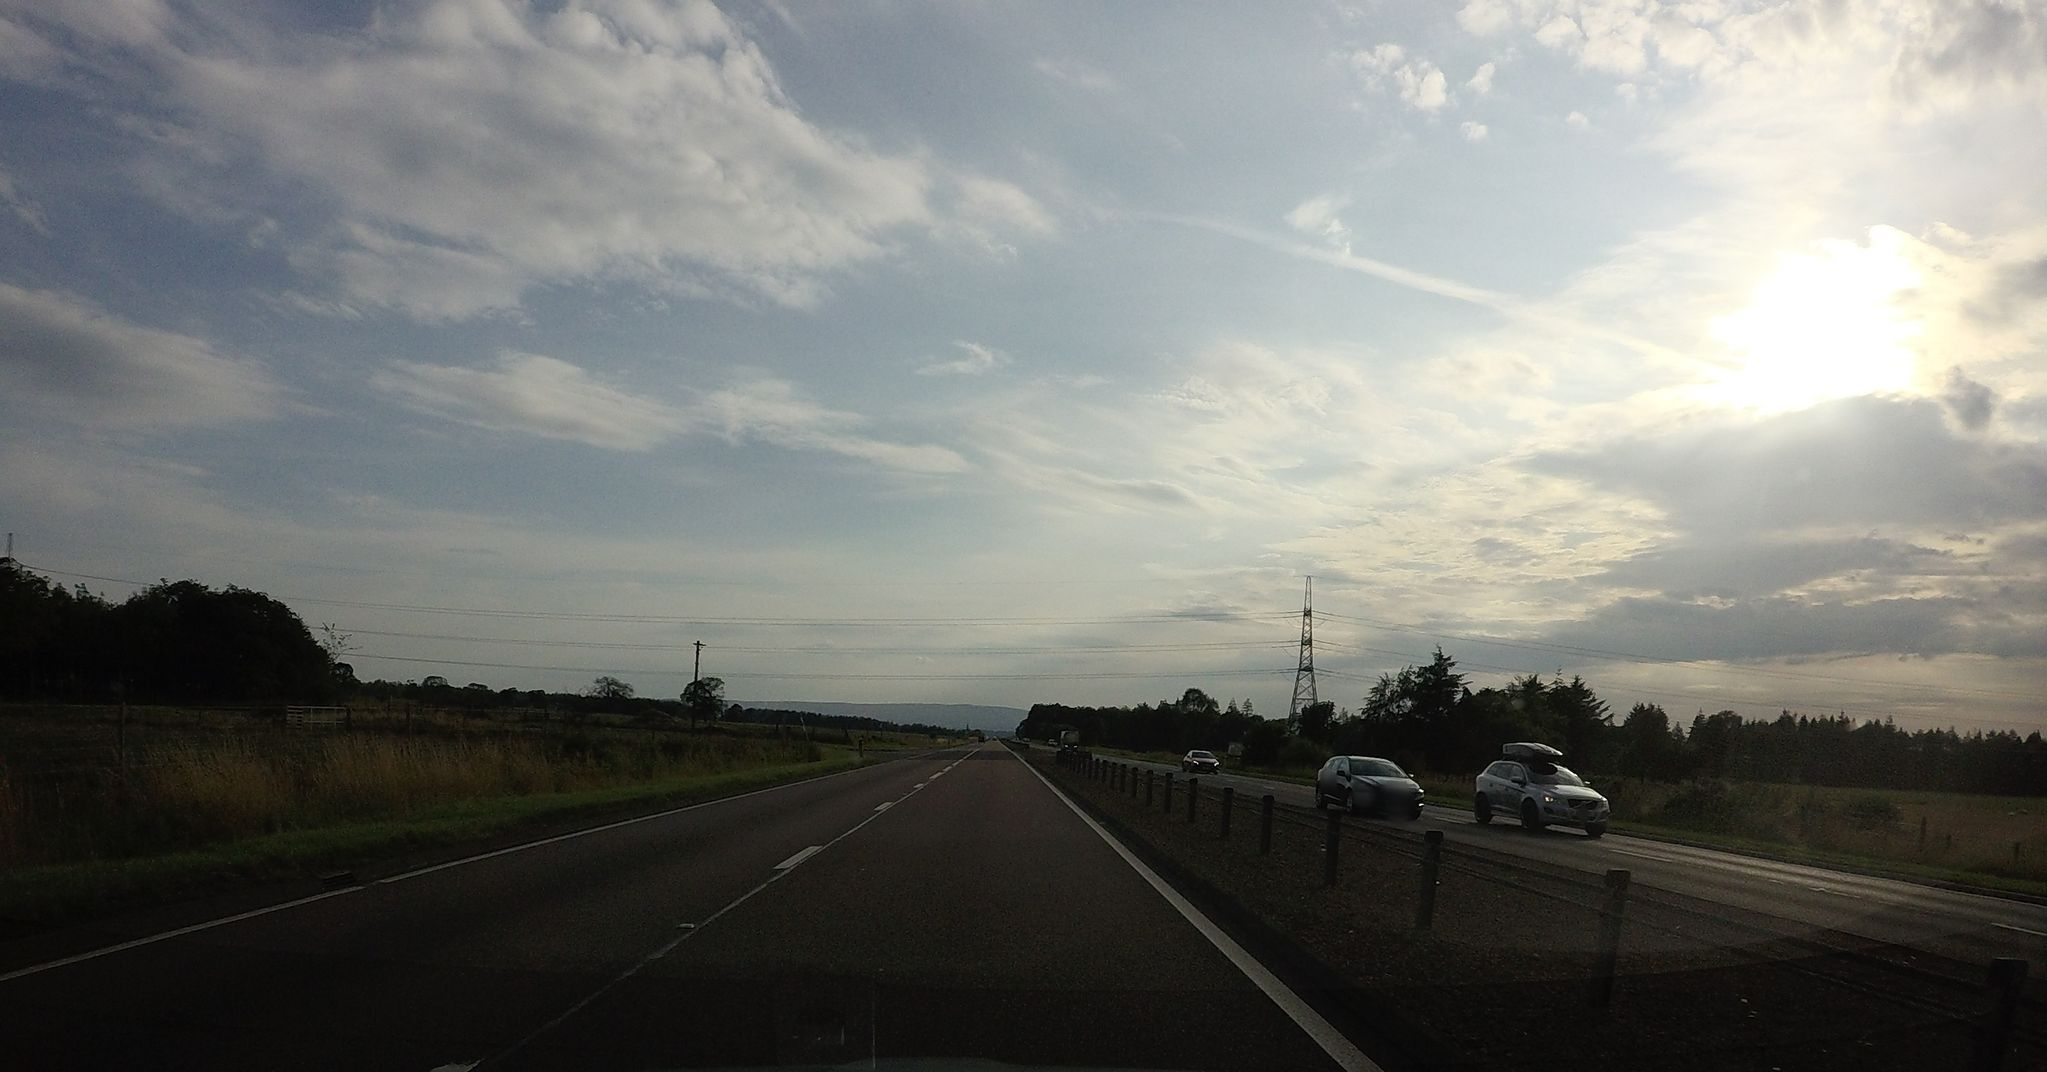car: (1473, 740, 1610, 838), (1315, 755, 1424, 822), (1181, 749, 1218, 776)
